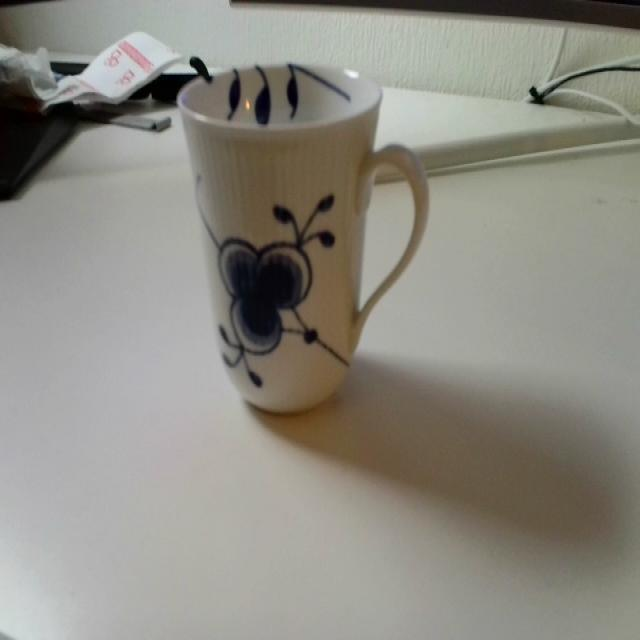cup: (172, 52, 436, 418)
